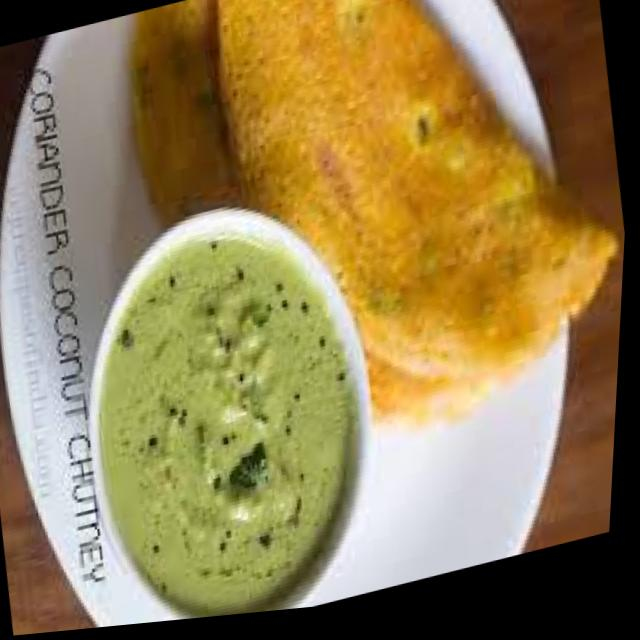DOSA: (137, 0, 617, 423)
WHITE CHUTNEY: (96, 207, 362, 618)
